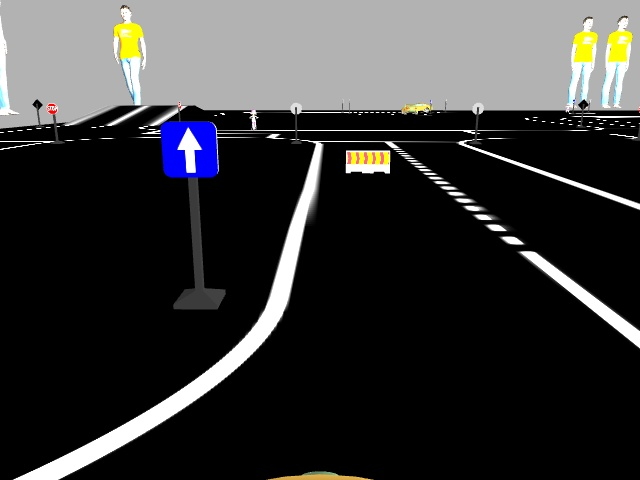ClosedRoadStand: (345, 149, 390, 173)
OneWay: (161, 125, 218, 177)
